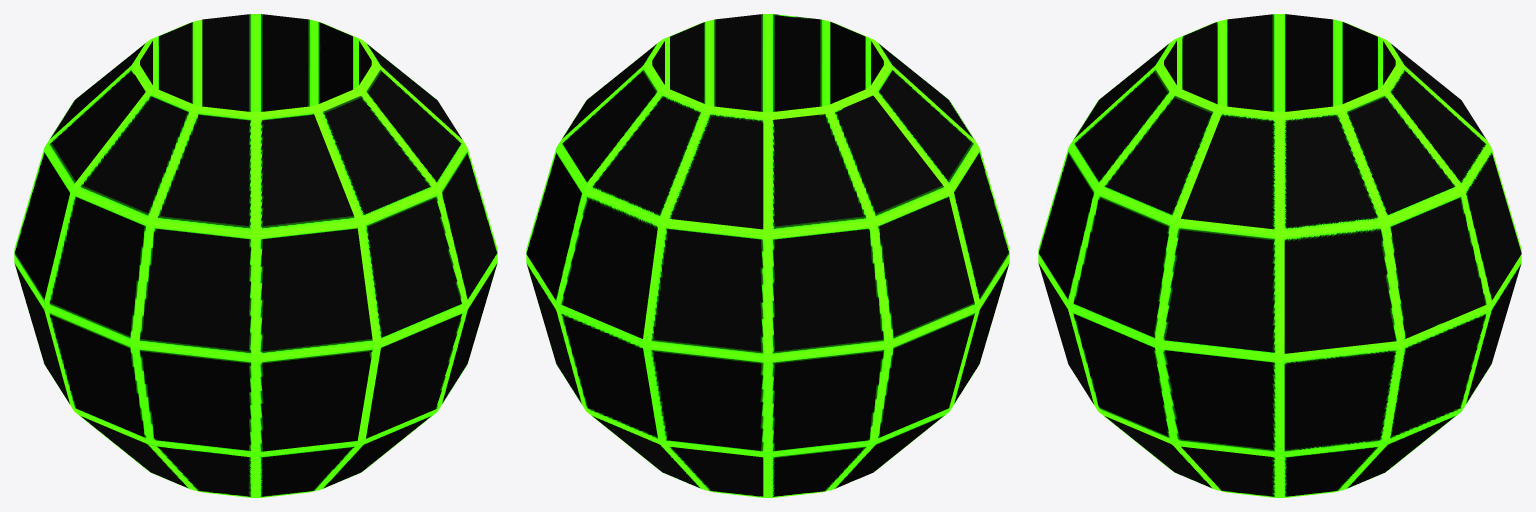
File: kouleGB.fbx
3 renders of one model, left to right at view 1: azimuth 30°, elevation 25°; view 2: azimuth 150°, elevation 25°; view 3: azimuth 270°, elevation 25°, orthographic.
Parts seen in each view (by area): view 1: koule_Sphere_001; view 2: koule_Sphere_001; view 3: koule_Sphere_001.
Boxes of the visible parts, box(x1,y1,x2,y2) form: koule_Sphere_001: box(14, 14, 497, 497); koule_Sphere_001: box(526, 14, 1009, 497); koule_Sphere_001: box(1038, 14, 1521, 497).
Bounding box in the file's own units: 1.98 × 1.74 × 1.98.
Materials: 1 (1 with a texture image).
